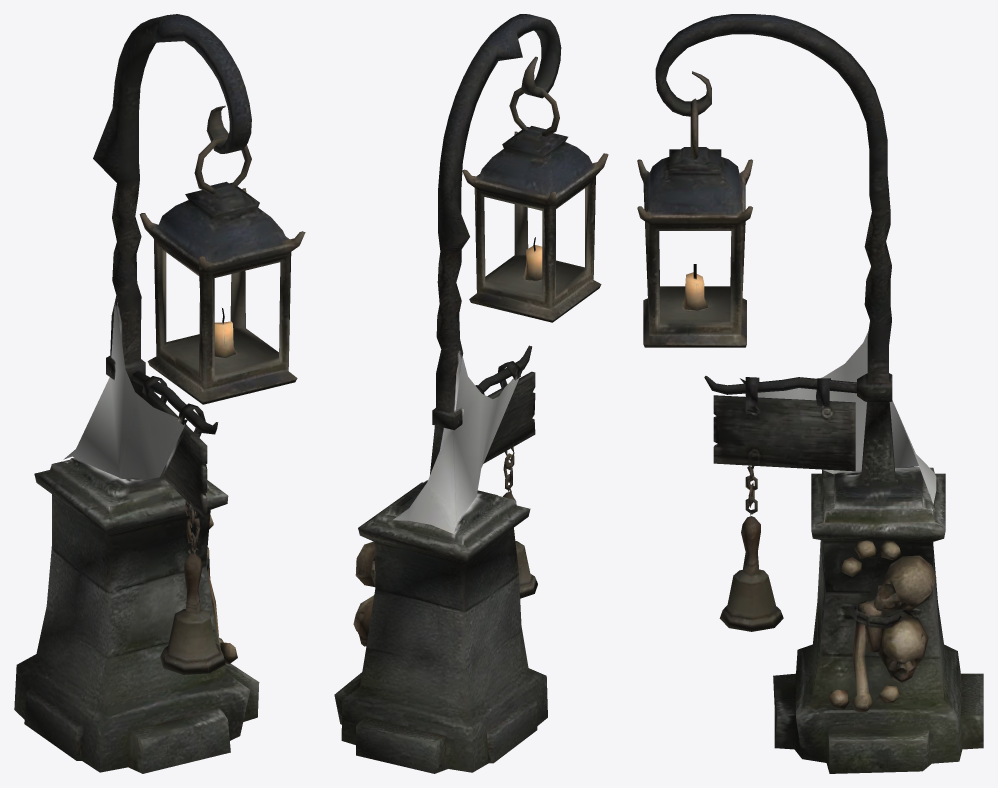
Rendered from grave_lantern.glb.
3 renders of one model, left to right at view 1: azimuth 30°, elevation 25°; view 2: azimuth 150°, elevation 25°; view 3: azimuth 270°, elevation 25°, orthographic. The views are drawn at different scales.
Parts seen in each view (by area): view 1: tripo_node_f09b1c9d-babc-4da6-b9f0-985cee787283; view 2: tripo_node_f09b1c9d-babc-4da6-b9f0-985cee787283; view 3: tripo_node_f09b1c9d-babc-4da6-b9f0-985cee787283.
Boxes of the visible parts, box(x1,y1,x2,y2) form: tripo_node_f09b1c9d-babc-4da6-b9f0-985cee787283: box(14, 14, 305, 773); tripo_node_f09b1c9d-babc-4da6-b9f0-985cee787283: box(334, 14, 608, 773); tripo_node_f09b1c9d-babc-4da6-b9f0-985cee787283: box(637, 14, 983, 773).
Size of the model in its own units: 0.2559 by 0.998 by 0.4434.
Materials: 1 (1 with a texture image).
